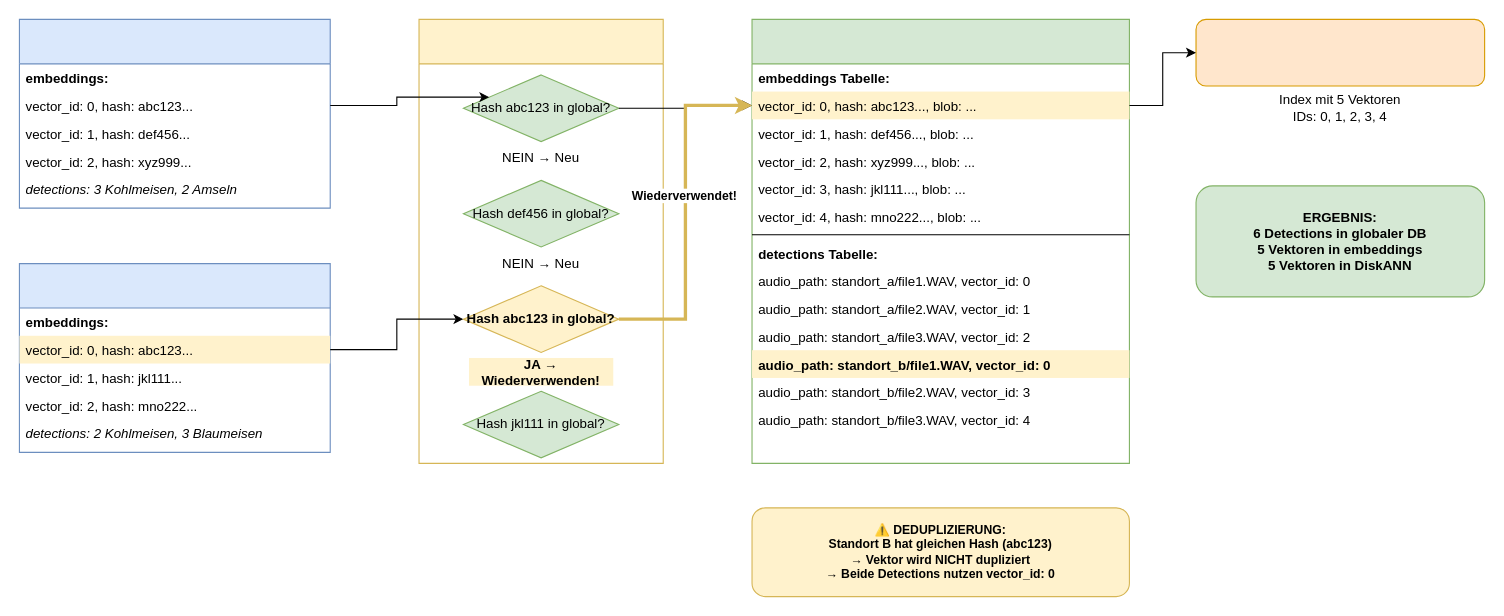
This 1504x616 diagram has some shape labels left out. The box of each missing label's shape, as (x1, y1, x2, y2) in pixels:
🌍 birdnet_global.db: (751, 18, 1129, 463)
💾 birdnet_vectors_global.diskann/: (1195, 18, 1485, 86)
📁 Standort A (Ordner A): (18, 18, 330, 208)
📁 Standort B (Ordner B): (18, 263, 330, 452)
🔄 Import-Prozess: (418, 18, 663, 463)
